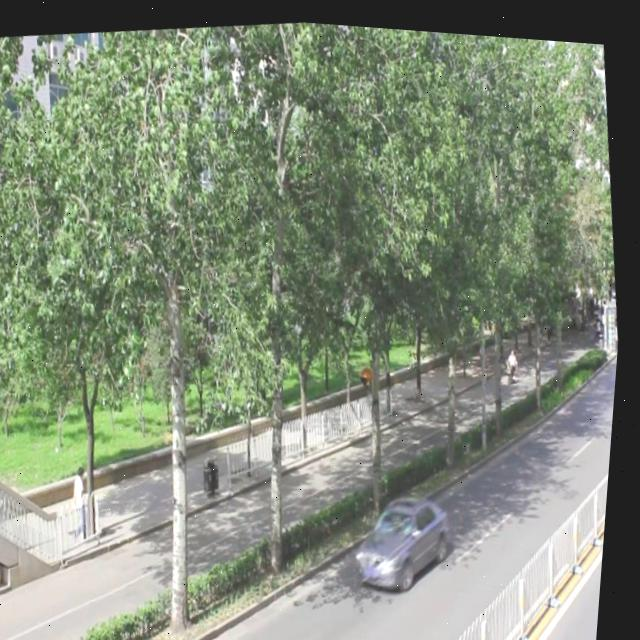car: (354, 479, 463, 588)
